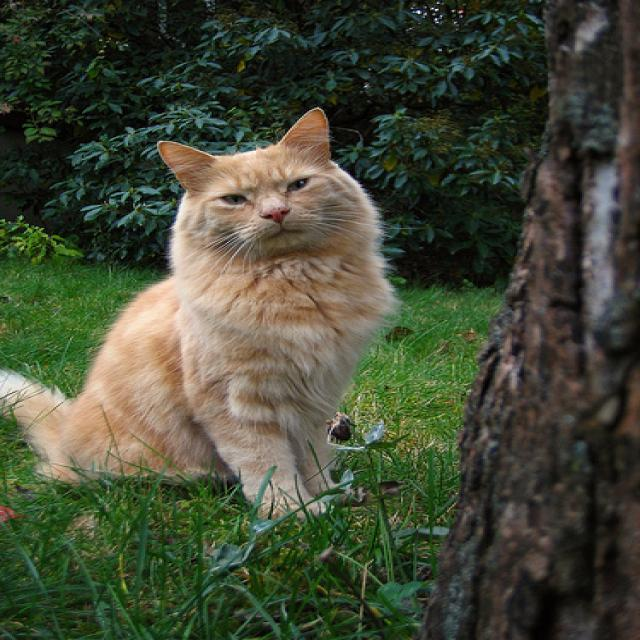Maine_Coon: (156, 101, 379, 268)
